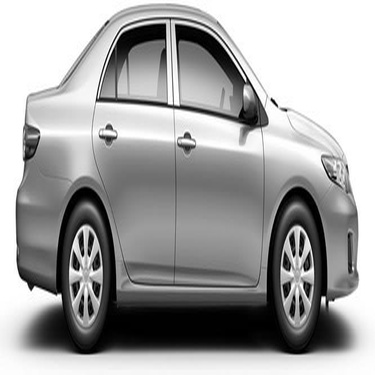car: (1, 1, 364, 358)
